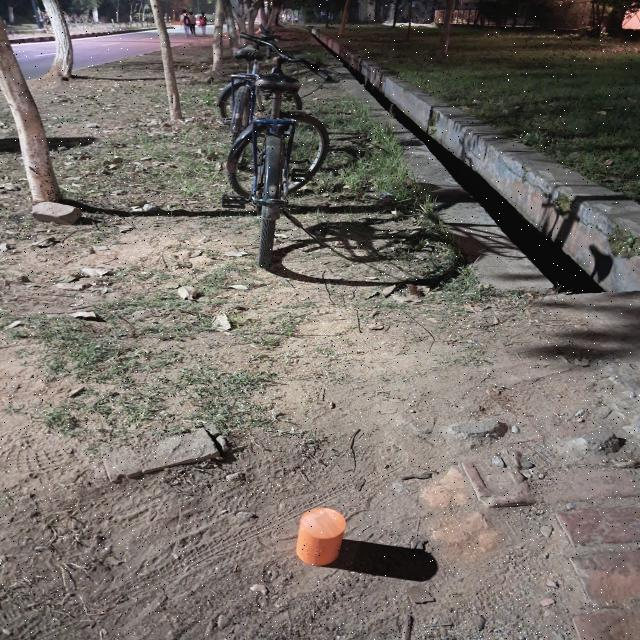Cylinder: (295, 506, 348, 566)
